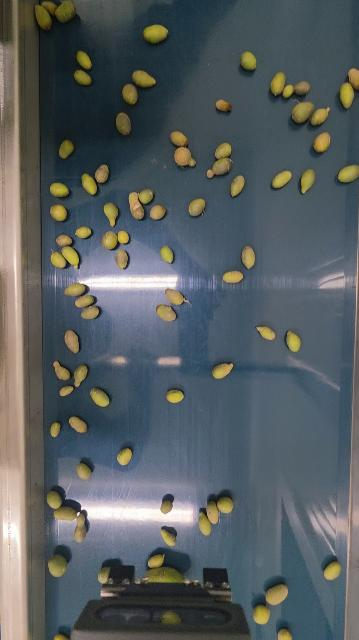Baby Potato: (205, 157, 234, 180), (33, 2, 55, 32), (291, 100, 316, 125), (266, 583, 290, 606), (127, 191, 145, 220), (143, 24, 169, 44), (48, 553, 69, 577), (132, 68, 157, 88), (173, 146, 196, 167), (54, 0, 75, 23), (270, 71, 288, 97), (310, 106, 332, 127), (339, 82, 356, 109), (300, 168, 317, 194), (272, 169, 293, 190), (197, 508, 212, 537), (62, 244, 80, 268), (64, 329, 81, 354), (338, 163, 359, 183), (313, 131, 332, 153), (53, 505, 79, 521), (212, 362, 235, 380), (74, 512, 87, 543), (103, 202, 119, 227), (90, 387, 110, 407), (165, 287, 186, 306), (157, 303, 178, 322), (253, 603, 271, 625), (122, 83, 140, 105), (81, 173, 98, 196), (230, 174, 246, 198), (68, 415, 88, 434), (240, 49, 258, 70), (75, 49, 93, 70), (53, 360, 71, 381), (324, 560, 342, 581), (206, 500, 221, 525), (116, 112, 132, 135), (286, 330, 302, 353), (73, 364, 89, 387), (256, 324, 278, 340), (64, 282, 87, 297), (214, 141, 233, 159), (170, 129, 189, 147), (50, 181, 70, 198), (242, 245, 256, 269), (46, 490, 63, 509), (50, 251, 67, 270), (50, 203, 67, 222), (189, 198, 206, 217), (217, 495, 234, 514), (58, 139, 74, 159), (102, 230, 118, 250), (74, 293, 95, 308), (222, 270, 244, 284), (294, 79, 312, 96), (74, 69, 92, 86), (166, 388, 185, 404), (115, 248, 129, 269), (347, 66, 359, 90), (75, 462, 91, 480), (161, 528, 177, 546), (117, 447, 132, 466), (80, 305, 99, 320), (95, 163, 109, 183), (138, 187, 154, 204), (148, 553, 166, 568), (98, 565, 112, 584), (150, 204, 166, 220), (75, 225, 92, 239), (215, 98, 232, 112), (56, 233, 73, 247), (161, 245, 174, 263), (277, 627, 294, 640), (282, 83, 295, 99), (117, 230, 130, 245), (58, 385, 74, 397), (50, 422, 62, 438), (161, 499, 173, 514), (53, 632, 71, 640)
